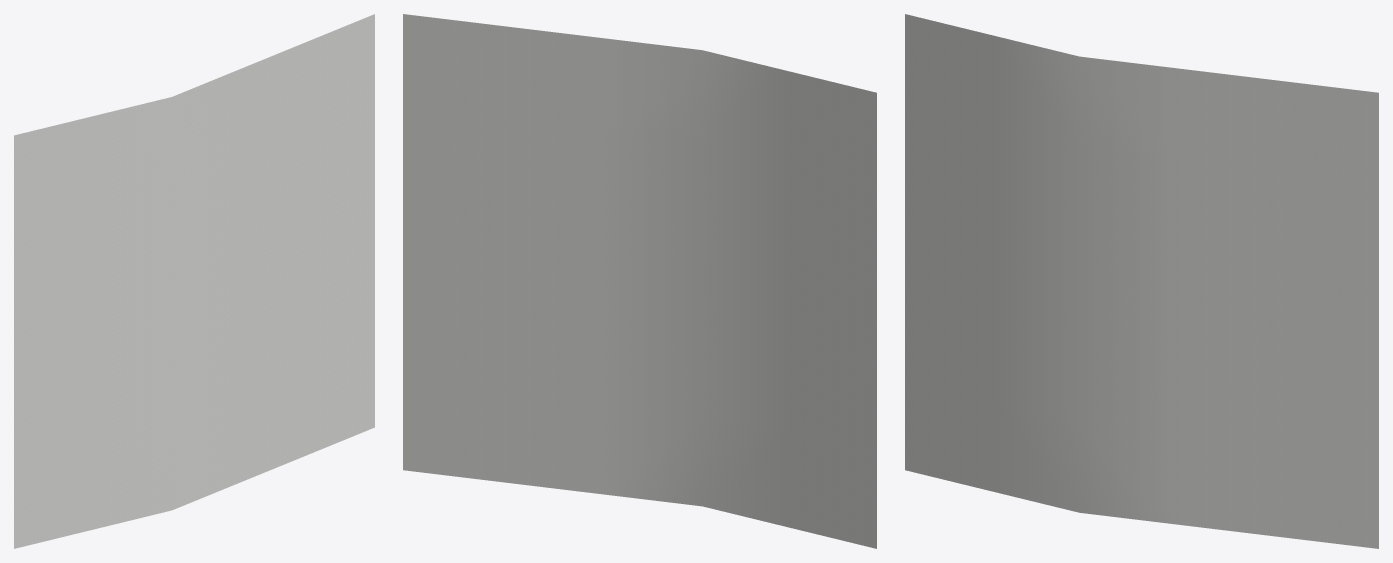
Rendered from floor7_04.obj.
The picture shows the model from 3 angles, left to right: view 1: azimuth 30°, elevation 25°; view 2: azimuth 150°, elevation 25°; view 3: azimuth 330°, elevation 25°; orthographic projection. The views are drawn at different scales.
Parts seen in each view (by area): view 1: Imported_OBJ_Object; view 2: Imported_OBJ_Object; view 3: Imported_OBJ_Object.
Boxes of the visible parts, x1,y1,x2,y2 form: Imported_OBJ_Object: (14, 14, 374, 548); Imported_OBJ_Object: (403, 14, 876, 548); Imported_OBJ_Object: (905, 14, 1378, 548).
Size of the model in its own units: 100 by 100 by 15.
Materials: 1 (1 with a texture image).
